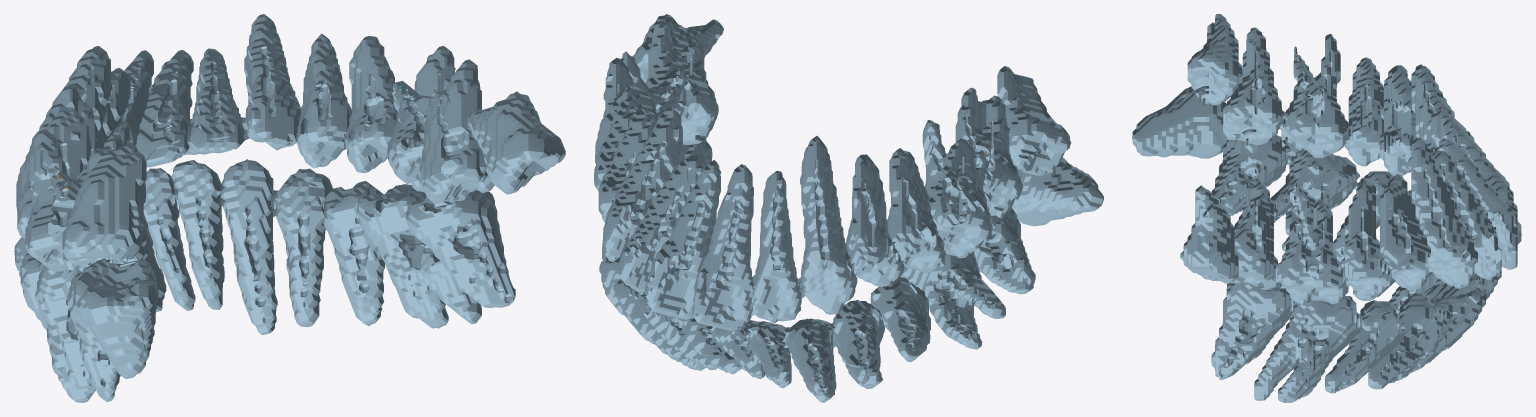
Rendered from STS25_Train_Labeled_0013.glb.
The picture shows the model from 3 angles, left to right: view 1: azimuth 30°, elevation 25°; view 2: azimuth 150°, elevation 25°; view 3: azimuth 270°, elevation 25°; orthographic projection. The views are drawn at different scales.
Parts seen in each view (by area): view 1: teeth__1, teeth__12; view 2: teeth__1, teeth__12; view 3: teeth__1, teeth__12.
Boxes of the visible parts, left/top/right/bottom form: teeth__1: left=14, top=14, right=515, bottom=402; teeth__12: left=62, top=91, right=565, bottom=378; teeth__1: left=594, top=20, right=1035, bottom=402; teeth__12: left=632, top=14, right=1103, bottom=226; teeth__1: left=1211, top=27, right=1521, bottom=402; teeth__12: left=1132, top=14, right=1242, bottom=283.
Size of the model in its own units: 70.2 by 44.29 by 59.4.
